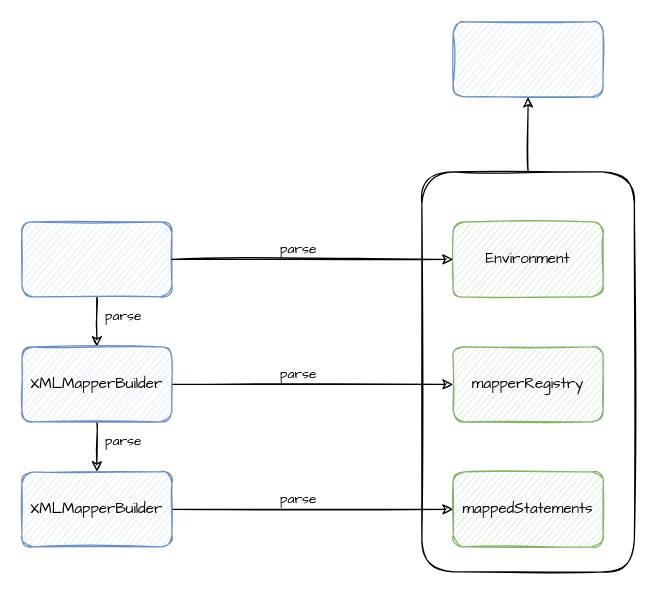
The diagram is 656 pixels wide and 594 high, and some of its shapes have lost their labels. Each missing label, with the centre of its shape:
"Configuration" goes at (527,59).
"XMLConfigBuilder" goes at (96,259).
